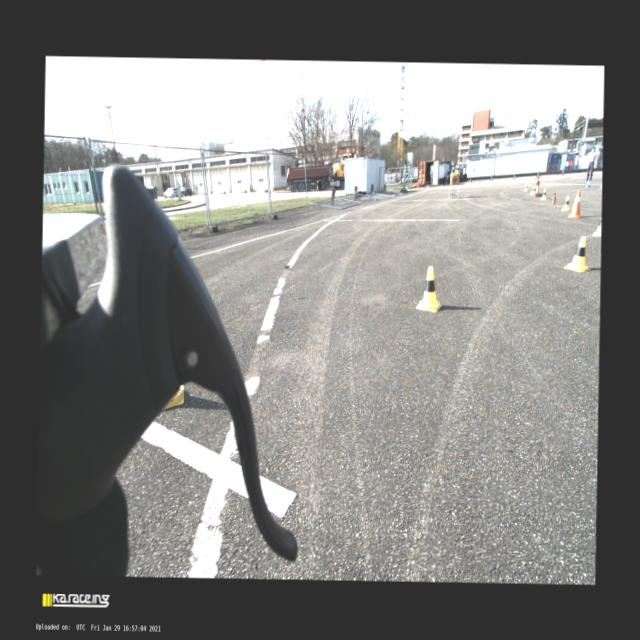blue_cone: (585, 179, 590, 187), (598, 182, 602, 190)
large_orange_cone: (568, 190, 582, 218)
yellow_cone: (415, 266, 442, 312), (563, 236, 588, 271), (560, 196, 570, 210), (540, 188, 546, 200), (524, 182, 528, 190), (530, 186, 534, 194), (456, 165, 459, 173), (451, 167, 454, 174), (534, 185, 536, 194), (454, 165, 456, 172)
